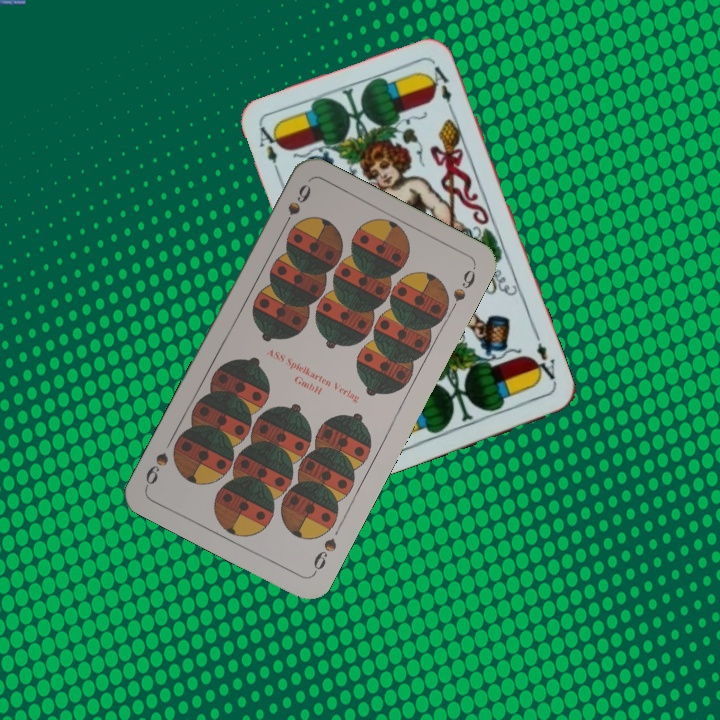EA: (528, 331, 560, 388), (255, 122, 285, 179)
S9: (277, 180, 314, 236), (309, 534, 340, 577)
